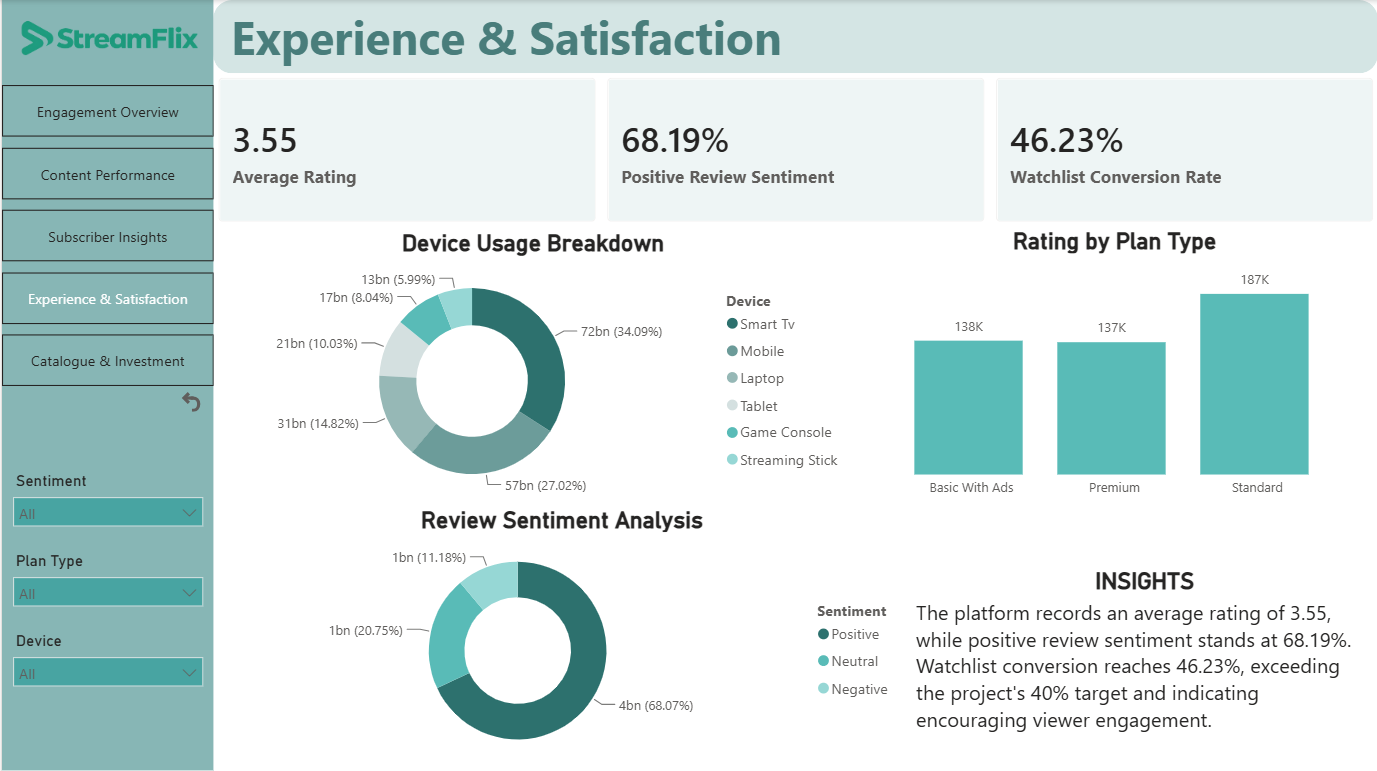

What the dashboard file says about the page in this screenshot:
{"tool":"powerbi","page":{"name":"Experience & Satisfaction","canvas":[1280,720],"ordinal":3},"visuals":[{"type":"group","id":"g1","title":"Group 1","box":[196,68,1084,146],"z":0},{"type":"cardVisual","fields":{"Data":["public ratings.Average Rating"]},"box":[196,68,361.7,144.7],"z":0,"group":"g1"},{"type":"cardVisual","fields":{"Data":["public reviews.Positive Review Sentiment (%)"]},"box":[557.7,68,361.7,144.7],"z":1000,"group":"g1"},{"type":"donutChart","title":"Device Usage Breakdown","fields":{"Category":["public watch_history.device"],"Y":["Sum(public watch_history.watch_id)"]},"box":[196.2,213.8,595,257.5],"z":1000},{"type":"cardVisual","fields":{"Data":["public watchlist.Watchlist Conversion Rate (%)"]},"box":[919.3,68,361.7,144.7],"z":2000,"group":"g1"},{"type":"clusteredColumnChart","title":"Rating by Plan Type","fields":{"Category":["public subscribers.plan_type"],"Y":["Sum(public ratings.rating)"]},"box":[791.2,211.2,488.8,260],"z":2000},{"type":"donutChart","title":"Review Sentiment Analysis","fields":{"Category":["public reviews.sentiment"],"Y":["Sum(public reviews.review_id)"]},"box":[196.2,471.2,648.8,245],"z":3000},{"type":"shape","box":[0,0,196.7,716.7],"z":4000},{"type":"shape","box":[196.7,0,1083.3,68.3],"z":5000},{"type":"textbox","box":[208,0,864,68],"z":6000},{"type":"image","box":[0,0,197.1,68.6],"z":7000},{"type":"pageNavigator","box":[0,78.6,197.1,281.4],"z":8000},{"type":"textbox","title":"INSIGHTS","box":[845,517,435,201],"z":9000},{"type":"actionButton","box":[162.8,360.5,33.7,26.7],"z":10000},{"type":"slicer","fields":{"Values":["public reviews.sentiment"]},"box":[0,433.7,197.1,74.3],"z":11000,"group":"g2"},{"type":"group","id":"g2","title":"Group 2","box":[0,433.7,197.7,223.3],"z":11000},{"type":"slicer","fields":{"Values":["public subscribers.plan_type"]},"box":[0,508,197.1,74.3],"z":12000,"group":"g2"},{"type":"slicer","fields":{"Values":["public watch_history.device"]},"box":[0,582.3,197.1,74.3],"z":13000,"group":"g2"}]}

Visuals, with their boxes on the page's 1280x720 design canvas (x1, y1, x2, y2). These are canvas units, not pixel positions in the 1377x771 screenshot, which may show the page scaled, cropped or inside an application window:
"Group 1" group: box(196, 68, 1280, 214)
cardVisual - public ratings.Average Rating: box(196, 68, 558, 213)
cardVisual - public reviews.Positive Review Sentiment (%): box(558, 68, 919, 213)
"Device Usage Breakdown" donutChart: box(196, 214, 791, 471)
cardVisual - public watchlist.Watchlist Conversion Rate (%): box(919, 68, 1281, 213)
"Rating by Plan Type" clusteredColumnChart: box(791, 211, 1280, 471)
"Review Sentiment Analysis" donutChart: box(196, 471, 845, 716)
shape: box(0, 0, 197, 717)
shape: box(197, 0, 1280, 68)
textbox: box(208, 0, 1072, 68)
image: box(0, 0, 197, 69)
pageNavigator: box(0, 79, 197, 360)
"INSIGHTS" textbox: box(845, 517, 1280, 718)
actionButton: box(163, 360, 196, 387)
slicer - public reviews.sentiment: box(0, 434, 197, 508)
"Group 2" group: box(0, 434, 198, 657)
slicer - public subscribers.plan_type: box(0, 508, 197, 582)
slicer - public watch_history.device: box(0, 582, 197, 657)
